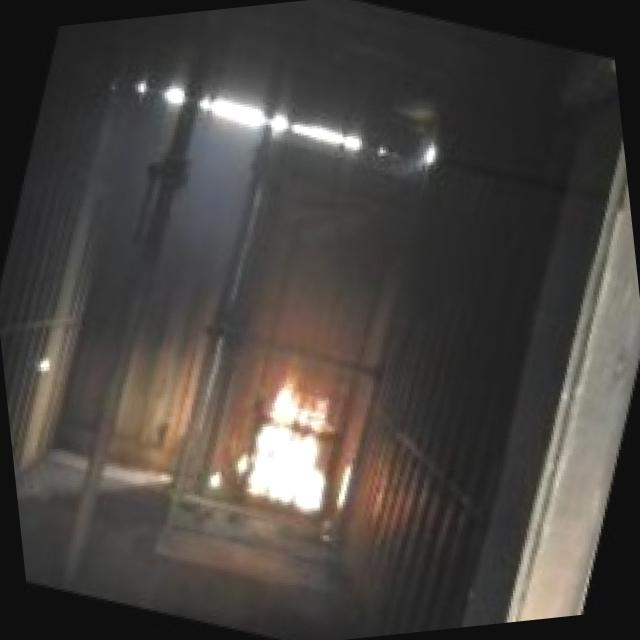fire: (214, 347, 384, 542)
